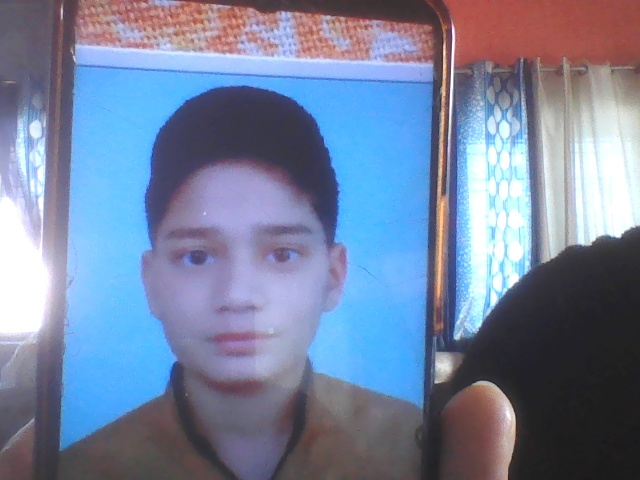fake: (129, 91, 355, 412)
